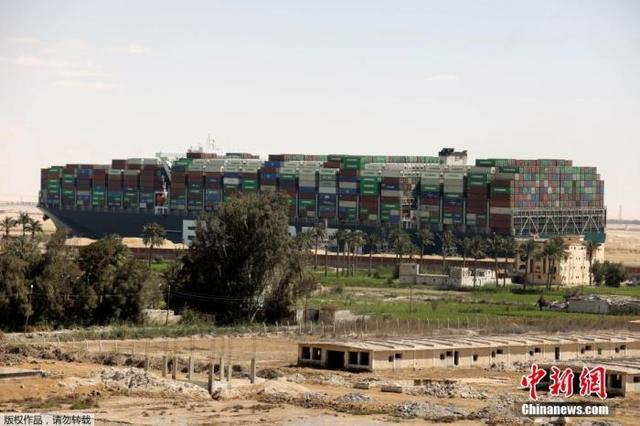Cargoship: (36, 138, 608, 267)
